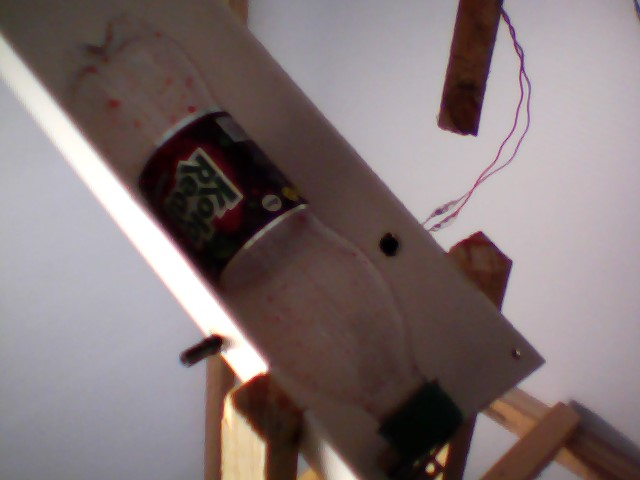plastico: (48, 10, 470, 462)
